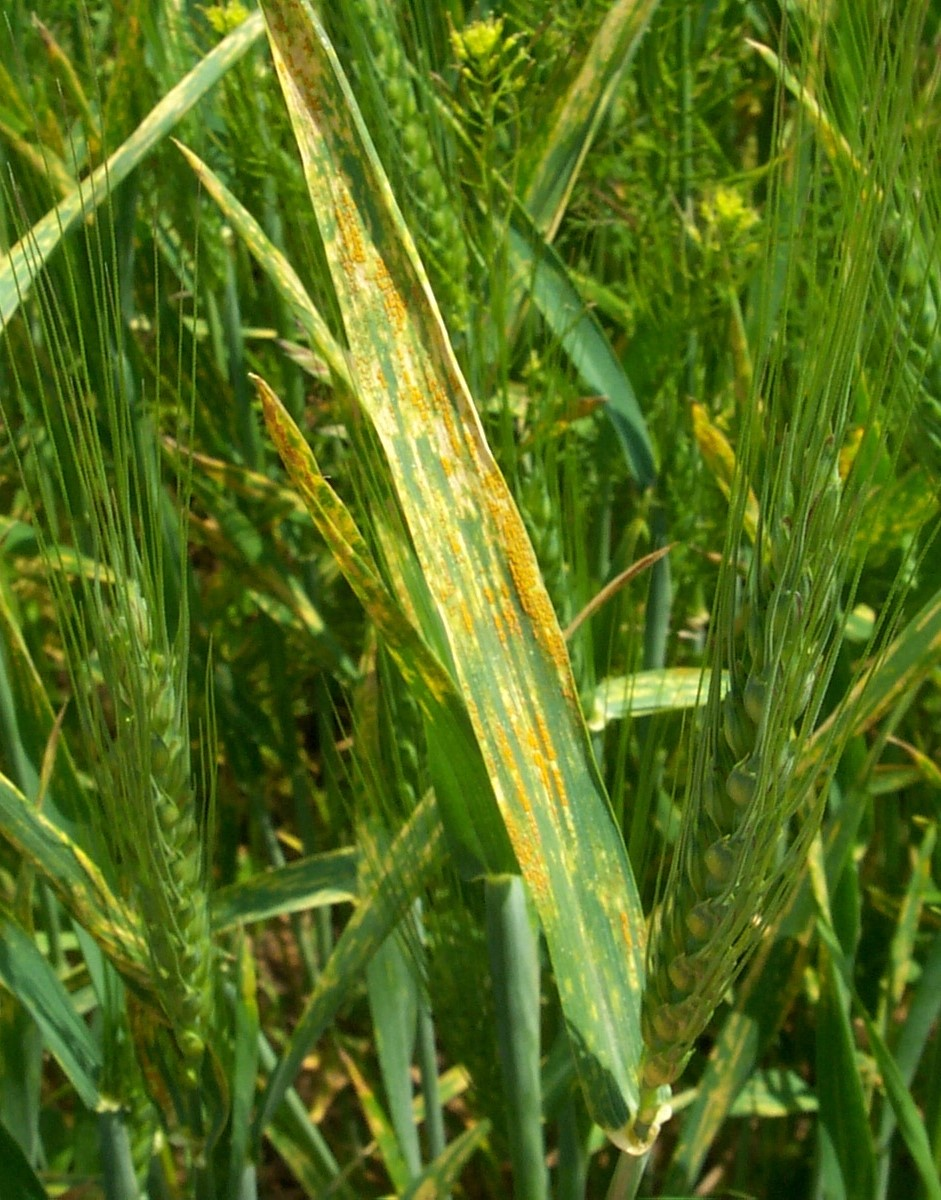Leaf Rust: (351, 252, 623, 712)
